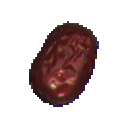gd: (14, 20, 107, 114)
